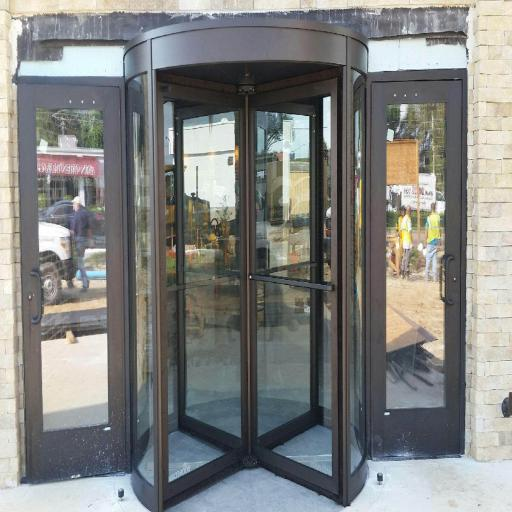Door: (122, 16, 367, 512), (12, 76, 128, 486), (249, 68, 346, 505), (152, 70, 247, 512), (368, 70, 468, 462)
